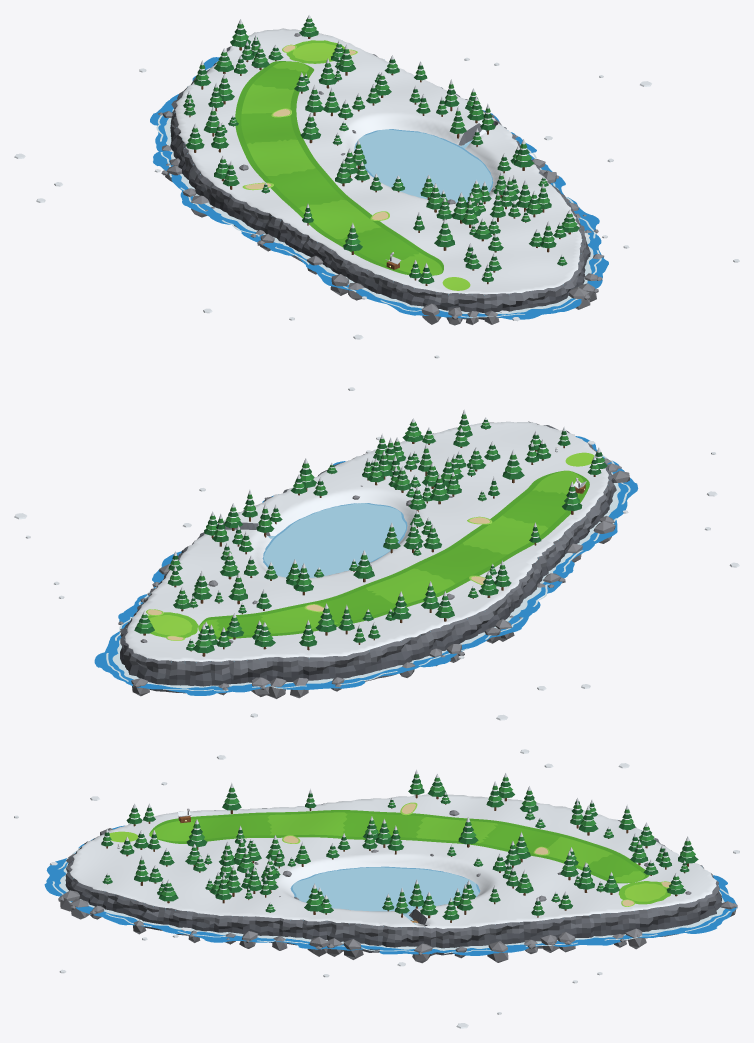
File: hole_20.fbx
The picture shows the model from 3 angles, top to bottom: view 1: azimuth 30°, elevation 25°; view 2: azimuth 150°, elevation 25°; view 3: azimuth 270°, elevation 25°; orthographic projection. The views are drawn at different scales.
Parts seen in each view (by area): view 1: TERRAIN_ISLAND_1, TREES, FAIRWAY, ICE_POOL_1, WATER_SHALLOW_1, ROCKS, FAIRWAY_FIRSTCUT, WATER_FOAM_1, WATER_FOAM_CREST_1, ICE_FLOES, GREEN_1; view 2: TERRAIN_ISLAND_1, TREES, FAIRWAY, ICE_POOL_1, WATER_SHALLOW_1, ROCKS, FAIRWAY_FIRSTCUT, WATER_FOAM_1, WATER_FOAM_CREST_1, GREEN_1, ICE_FLOES; view 3: TERRAIN_ISLAND_1, TREES, FAIRWAY, ICE_POOL_1, ROCKS, WATER_SHALLOW_1, FAIRWAY_FIRSTCUT, WATER_FOAM_1, WATER_FOAM_CREST_1, GREEN_1, ICE_FLOES.
Part boxes in pixels (box(x1,y1,x2,y2)): TERRAIN_ISLAND_1: box(170, 28, 590, 319); TREES: box(183, 15, 579, 285); FAIRWAY: box(241, 61, 442, 274); ICE_POOL_1: box(354, 129, 492, 202); WATER_SHALLOW_1: box(150, 57, 608, 319); ROCKS: box(158, 33, 604, 325); FAIRWAY_FIRSTCUT: box(235, 61, 443, 275); WATER_FOAM_1: box(164, 109, 593, 314); WATER_FOAM_CREST_1: box(156, 68, 601, 317); ICE_FLOES: box(14, 57, 739, 358); GREEN_1: box(292, 43, 336, 61); TERRAIN_ISLAND_1: box(120, 421, 616, 693); TREES: box(134, 409, 607, 656); FAIRWAY: box(198, 470, 583, 636); ICE_POOL_1: box(264, 503, 405, 577); WATER_SHALLOW_1: box(94, 436, 638, 695); ROCKS: box(118, 451, 629, 698); FAIRWAY_FIRSTCUT: box(198, 470, 589, 639); WATER_FOAM_1: box(112, 472, 620, 688); WATER_FOAM_CREST_1: box(106, 455, 630, 691); GREEN_1: box(149, 615, 192, 635); ICE_FLOES: box(14, 387, 739, 720); TERRAIN_ISLAND_1: box(65, 794, 721, 955); TREES: box(101, 770, 698, 922); FAIRWAY: box(149, 812, 644, 882); ICE_POOL_1: box(292, 867, 479, 912); ROCKS: box(58, 810, 737, 963); WATER_SHALLOW_1: box(44, 825, 736, 955); FAIRWAY_FIRSTCUT: box(149, 810, 649, 883); WATER_FOAM_1: box(59, 863, 725, 950); WATER_FOAM_CREST_1: box(52, 847, 730, 953); GREEN_1: box(624, 883, 666, 901); ICE_FLOES: box(14, 749, 739, 1028).
Size of what is drawn, in the model's own units: 559 by 62.87 by 615.
